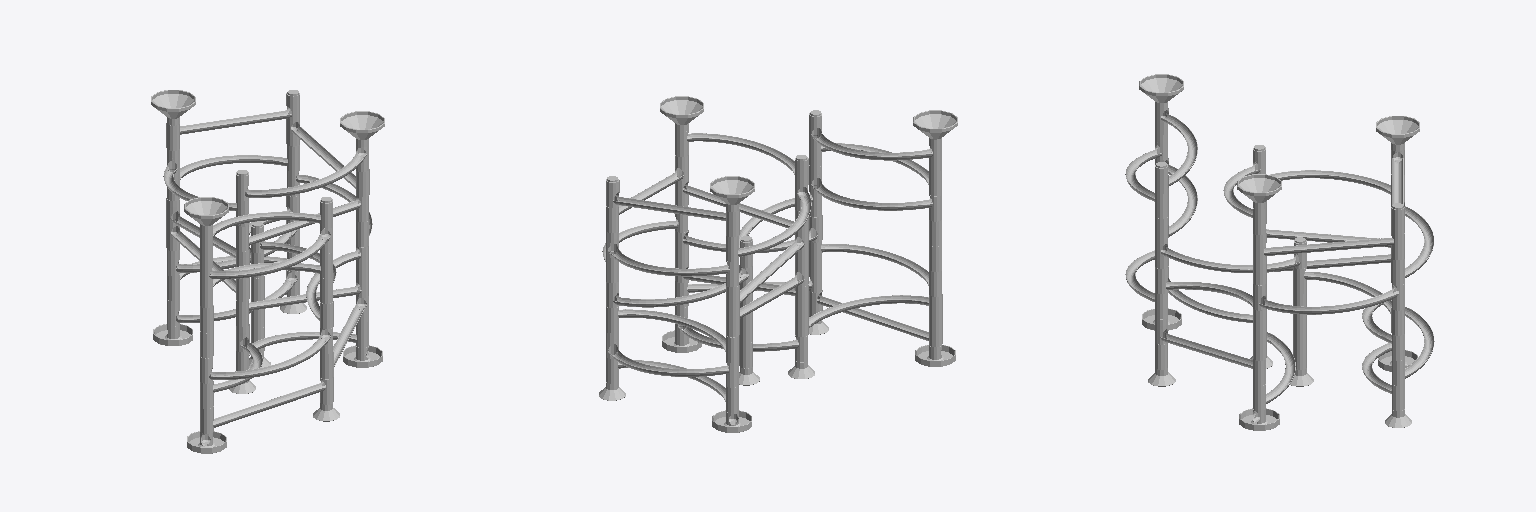
The model's file is marbletrack.obj.
3 renders of one model, left to right at view 1: azimuth 30°, elevation 25°; view 2: azimuth 150°, elevation 25°; view 3: azimuth 270°, elevation 25°, orthographic.
Size of the model in its own units: 0.4191 by 0.3743 by 0.4387.